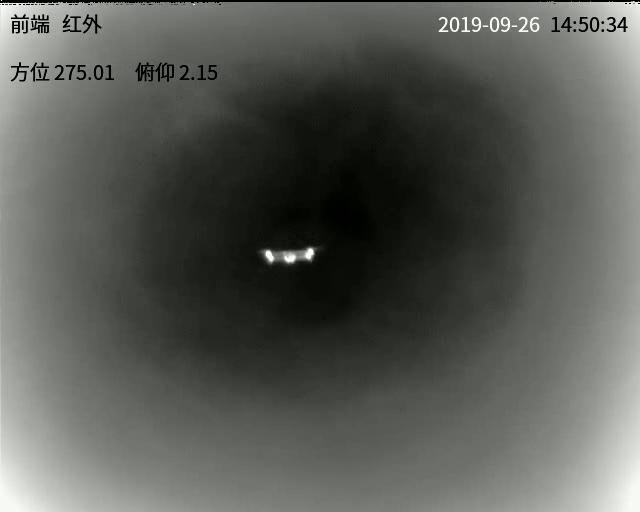DRONE: (263, 246, 317, 265)
